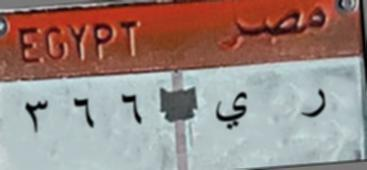3: (19, 92, 54, 140)
6: (117, 85, 149, 131), (68, 90, 100, 130)
raa: (294, 80, 329, 132)
yaa: (209, 90, 254, 134)
